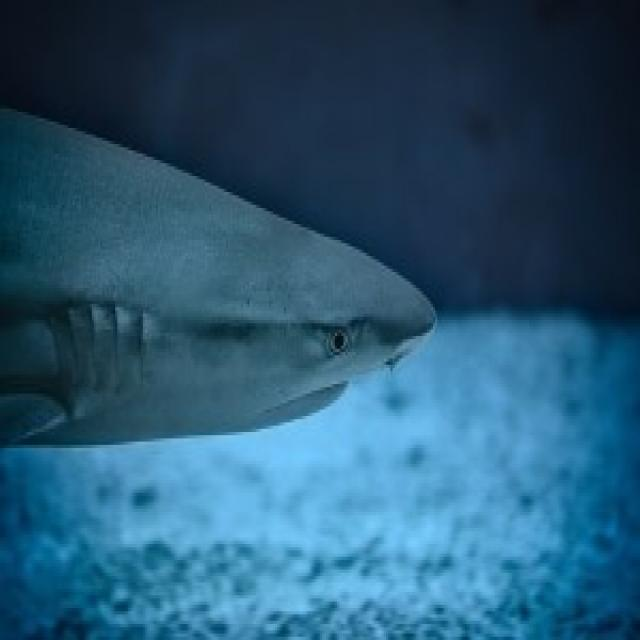Shark: (0, 68, 447, 466)
